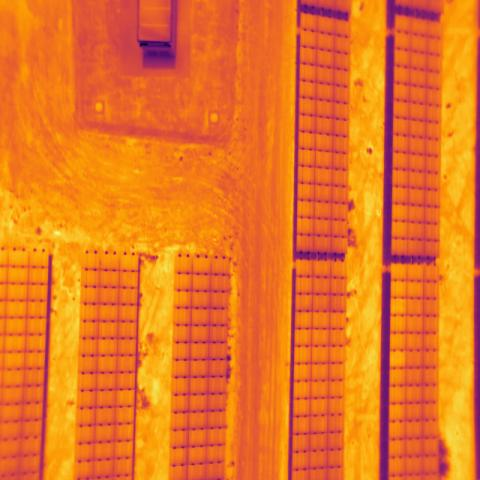fault: (390, 350, 406, 369)
